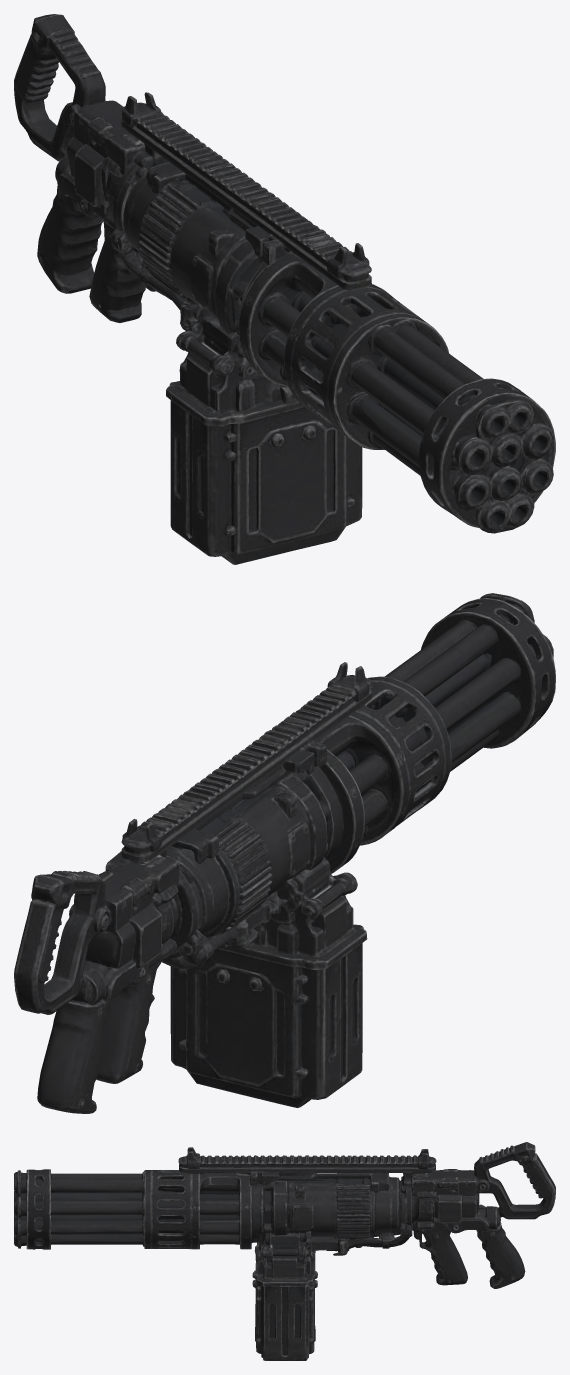
Rendered from rotary_minigun.medium.glb.
The picture shows the model from 3 angles, top to bottom: view 1: azimuth 30°, elevation 25°; view 2: azimuth 150°, elevation 25°; view 3: azimuth 270°, elevation 25°; orthographic projection. The views are drawn at different scales.
Visible parts, largest first — view 1: model; view 2: model; view 3: model.
Boxes of the visible parts, box(x1,y1,x2,y2) form: model: box(14, 14, 555, 564); model: box(14, 593, 555, 1113); model: box(14, 1142, 555, 1360).
Size of the model in its own units: 0.194 by 0.413 by 1.
Materials: 1 (1 with a texture image).
